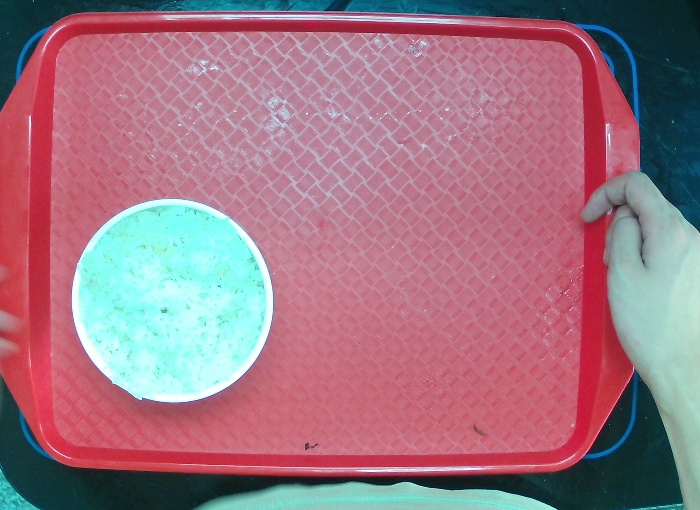YKMZ-Fan_Wan: (71, 197, 275, 404)
